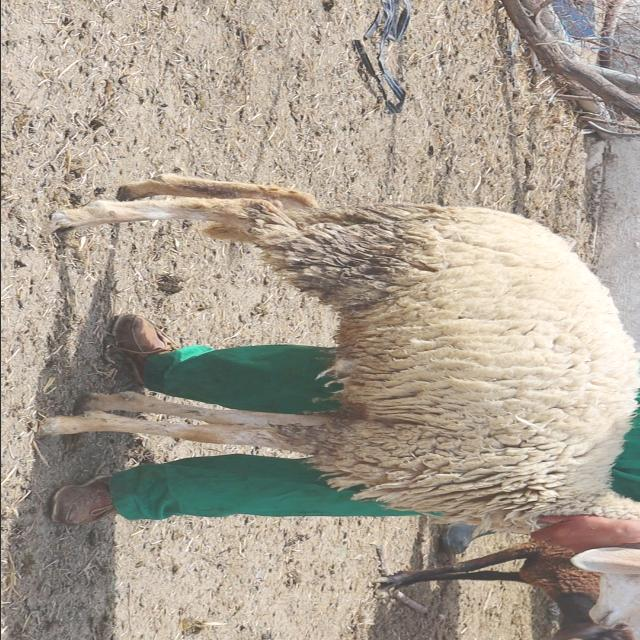Score_3: (39, 174, 640, 553)
